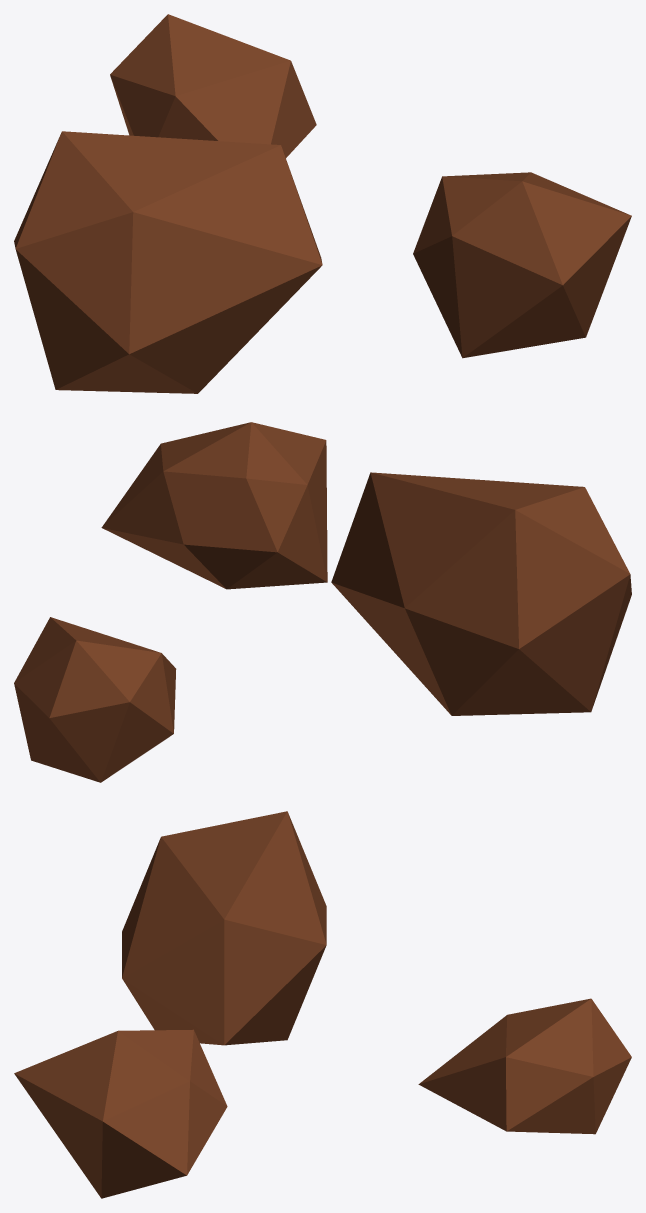
File: rawMetals.fbx
3 renders of one model, top to bottom at view 1: azimuth 30°, elevation 25°; view 2: azimuth 150°, elevation 25°; view 3: azimuth 270°, elevation 25°, orthographic. The views are drawn at different scales.
Parts seen in each view (by area): view 1: Raw Metals; view 2: Raw Metals; view 3: Raw Metals.
Boxes of the visible parts, x1,y1,x2,y2 form: Raw Metals: [14, 14, 631, 393]; Raw Metals: [14, 422, 631, 782]; Raw Metals: [14, 811, 631, 1198].
Bounding box in the file's own units: 60.86 × 65.36 × 24.04.
